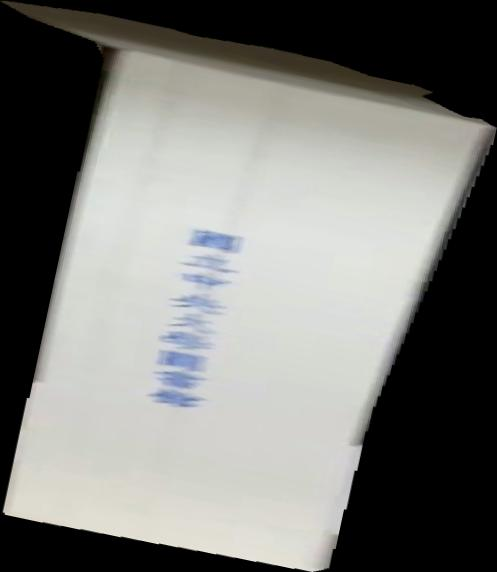backward: (1, 1, 497, 572)
